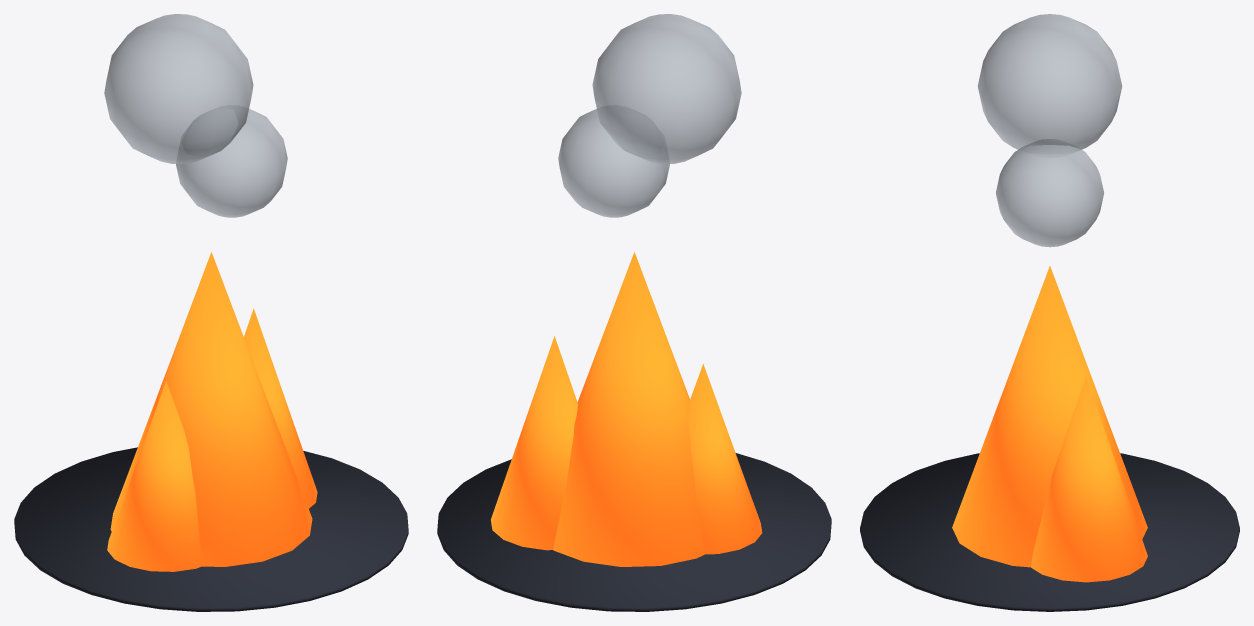
The model's file is Incident_Fire.glb.
The picture shows the model from 3 angles, left to right: view 1: azimuth 30°, elevation 25°; view 2: azimuth 150°, elevation 25°; view 3: azimuth 270°, elevation 25°; orthographic projection. The views are drawn at different scales.
Parts seen in each view (by area): view 1: Incident_Fire.Scorch, Incident_Fire.Flame0, Incident_Fire.Smoke1, Incident_Fire.Flame2, Incident_Fire.Smoke0, Incident_Fire.Flame1; view 2: Incident_Fire.Flame0, Incident_Fire.Scorch, Incident_Fire.Smoke1, Incident_Fire.Flame1, Incident_Fire.Smoke0, Incident_Fire.Flame2; view 3: Incident_Fire.Scorch, Incident_Fire.Flame0, Incident_Fire.Smoke1, Incident_Fire.Flame1, Incident_Fire.Smoke0.
Boxes of the visible parts, x1,y1,x2,y2 form: Incident_Fire.Scorch: (14, 447, 408, 611); Incident_Fire.Flame0: (110, 252, 312, 566); Incident_Fire.Smoke1: (104, 14, 253, 163); Incident_Fire.Flame2: (107, 381, 201, 571); Incident_Fire.Smoke0: (176, 105, 287, 217); Incident_Fire.Flame1: (244, 308, 317, 508); Incident_Fire.Flame0: (553, 252, 704, 566); Incident_Fire.Scorch: (437, 453, 831, 611); Incident_Fire.Smoke1: (592, 14, 741, 163); Incident_Fire.Flame1: (491, 336, 577, 550); Incident_Fire.Smoke0: (558, 105, 669, 217); Incident_Fire.Flame2: (687, 364, 762, 554); Incident_Fire.Scorch: (860, 453, 1239, 611); Incident_Fire.Flame0: (952, 266, 1147, 567); Incident_Fire.Smoke1: (977, 14, 1122, 158); Incident_Fire.Flame1: (1031, 376, 1147, 582); Incident_Fire.Smoke0: (996, 139, 1103, 247).
Bounding box in the file's own units: 0.84 × 1.21 × 0.84.
